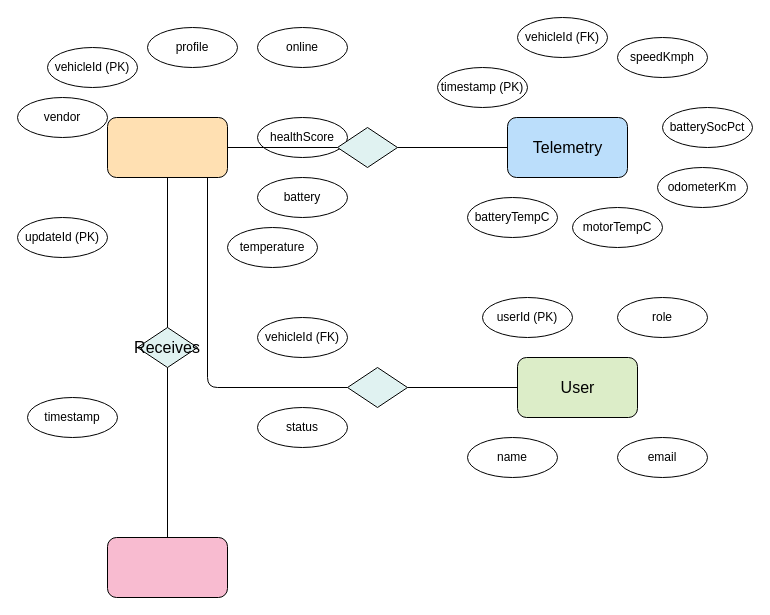
Some shapes in this 770 by 615 pixel diagram are drawn without their labels. Here are the shapes that lost their labels. From the top down, the centre of each, then its label:
point (167, 147): Vehicle
point (367, 147): Has
point (377, 387): Manages
point (167, 567): OTAUpdate
